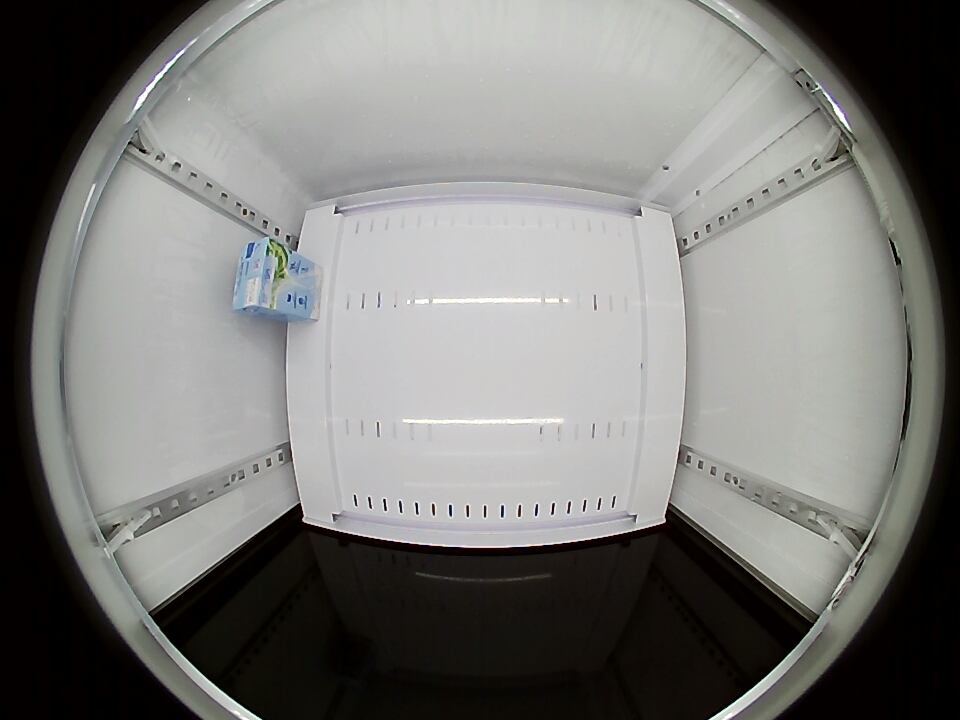weitanaiditang: (233, 237, 288, 316)
